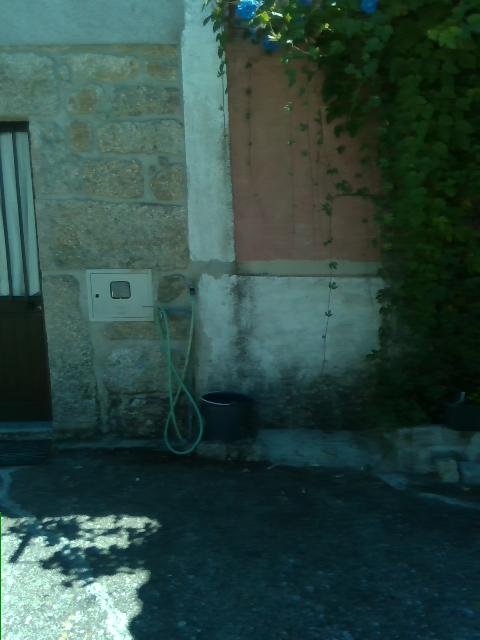door: (0, 115, 54, 430)
